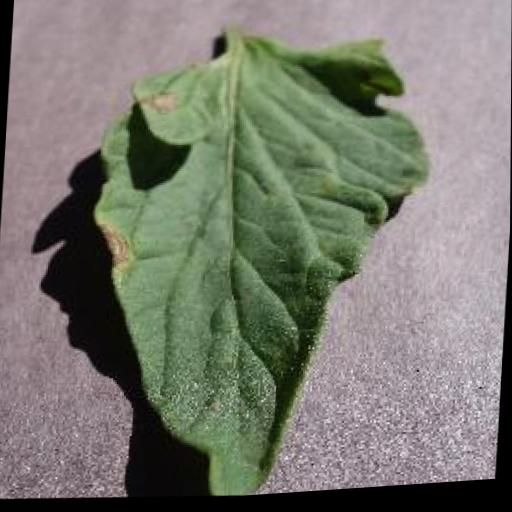Early Blight: (75, 19, 437, 508)
